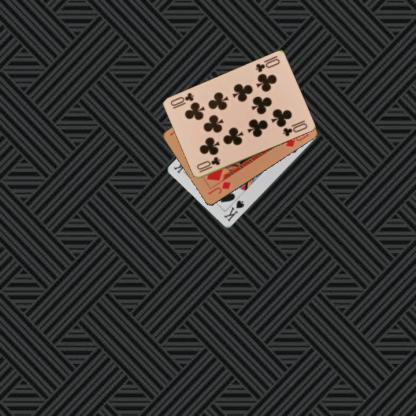10c: (194, 154, 221, 174), (252, 56, 281, 74)
Jd: (206, 179, 233, 197)
Ks: (221, 198, 245, 223)
